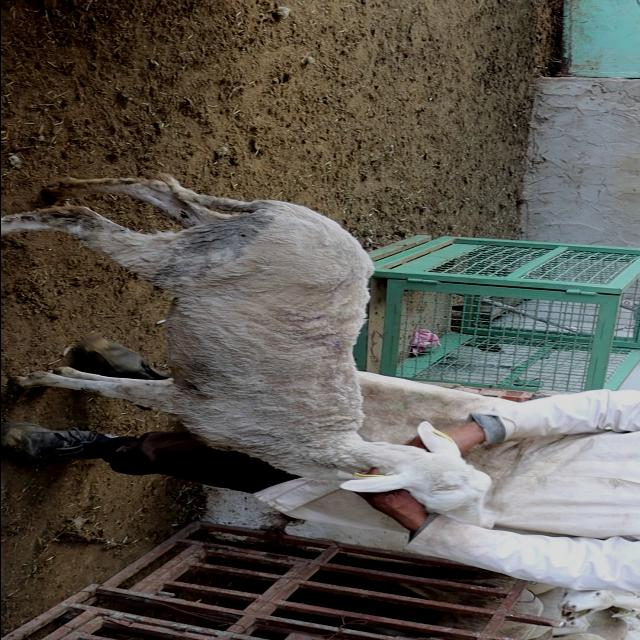Score_1: (1, 174, 490, 522)
